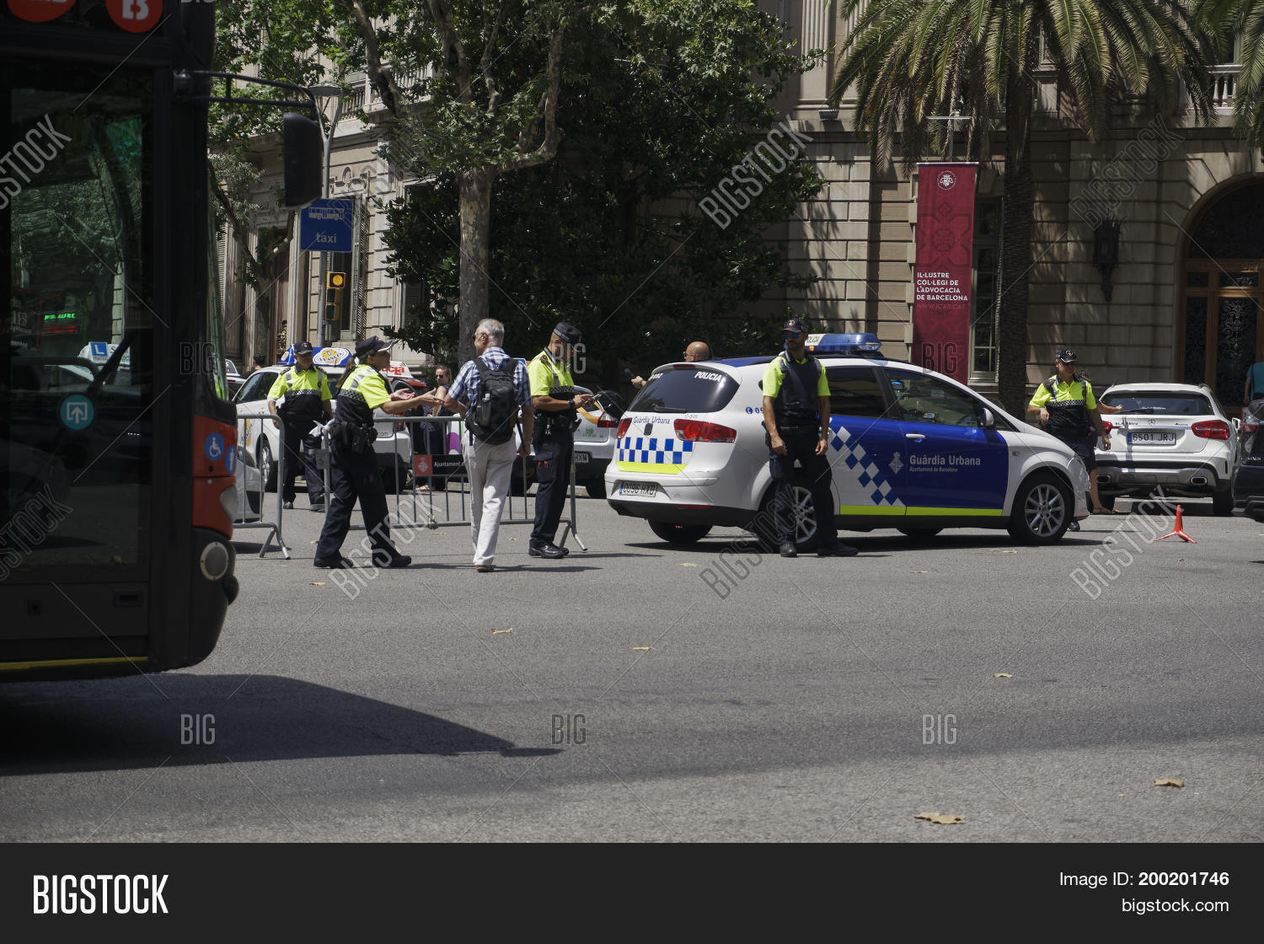Car: (619, 344, 1107, 544), (1092, 364, 1240, 519)
Person: (314, 327, 421, 573), (758, 323, 854, 569), (441, 318, 528, 579), (524, 325, 578, 558)
